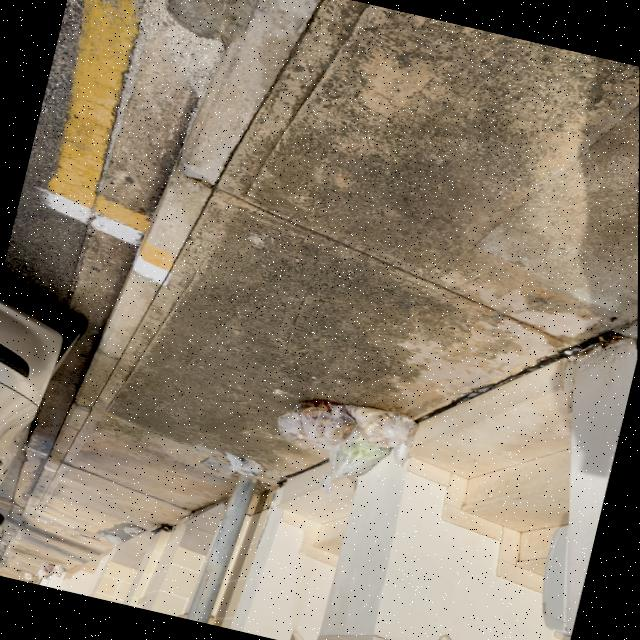Organic Waste -White Bag-: (272, 385, 423, 492)
